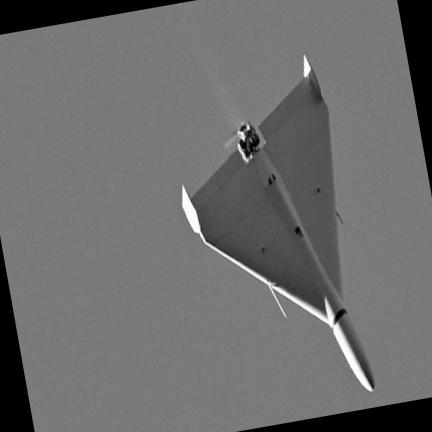Shahed: (182, 57, 375, 391)
